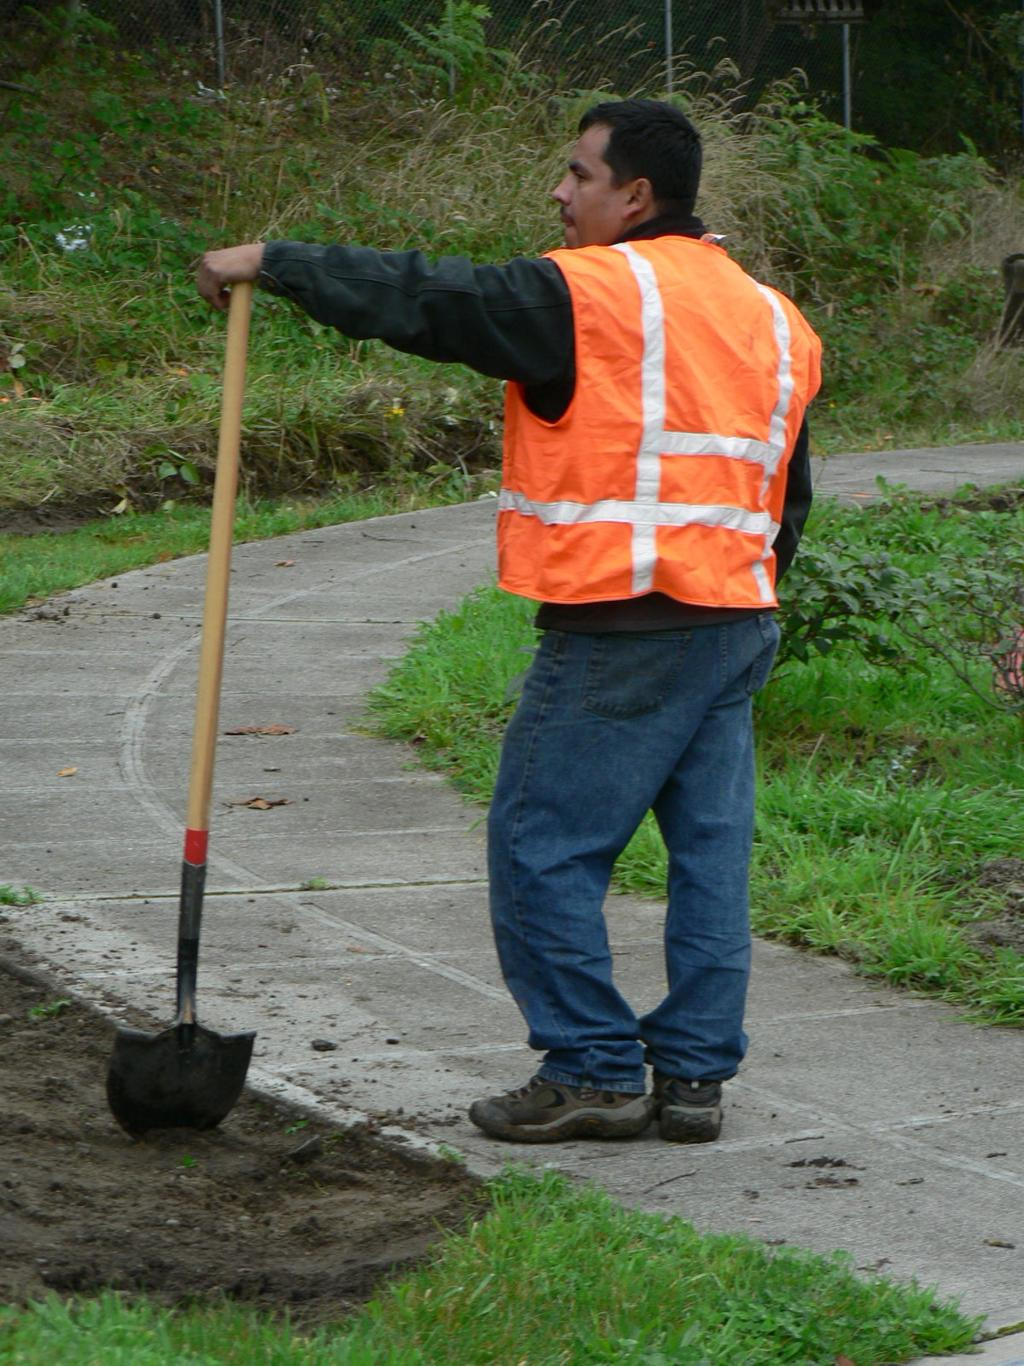face: (560, 120, 659, 256)
